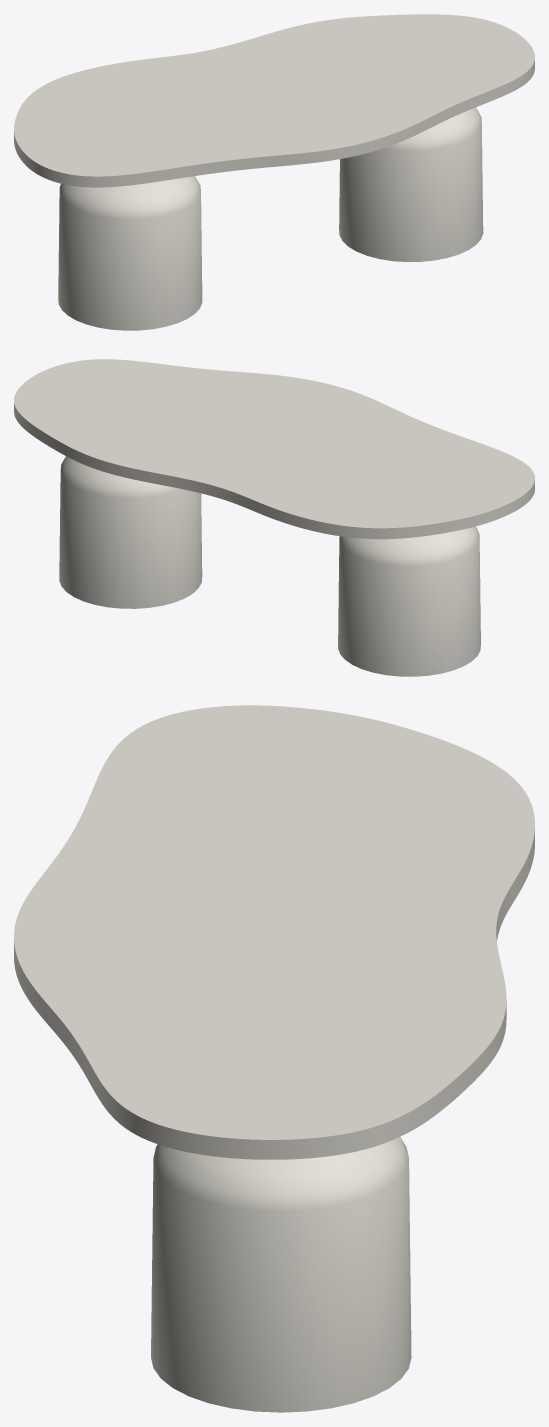
Rendered from pale_toplast_standard_tornado.glb.
The picture shows the model from 3 angles, top to bottom: view 1: azimuth 30°, elevation 25°; view 2: azimuth 150°, elevation 25°; view 3: azimuth 270°, elevation 25°; orthographic projection. The views are drawn at different scales.
Parts seen in each view (by area): view 1: standard_toplast, tornado; view 2: standard_toplast, tornado; view 3: standard_toplast, tornado.
Part boxes in pixels (x1,y1,x2,y2): standard_toplast: (14, 14, 534, 187); tornado: (58, 107, 483, 330); standard_toplast: (14, 359, 534, 539); tornado: (59, 456, 480, 676); standard_toplast: (14, 705, 534, 1159); tornado: (151, 1137, 411, 1412).
Size of the model in its own units: 7.5 by 2.5 by 3.8.
1 material, 1 textured.
